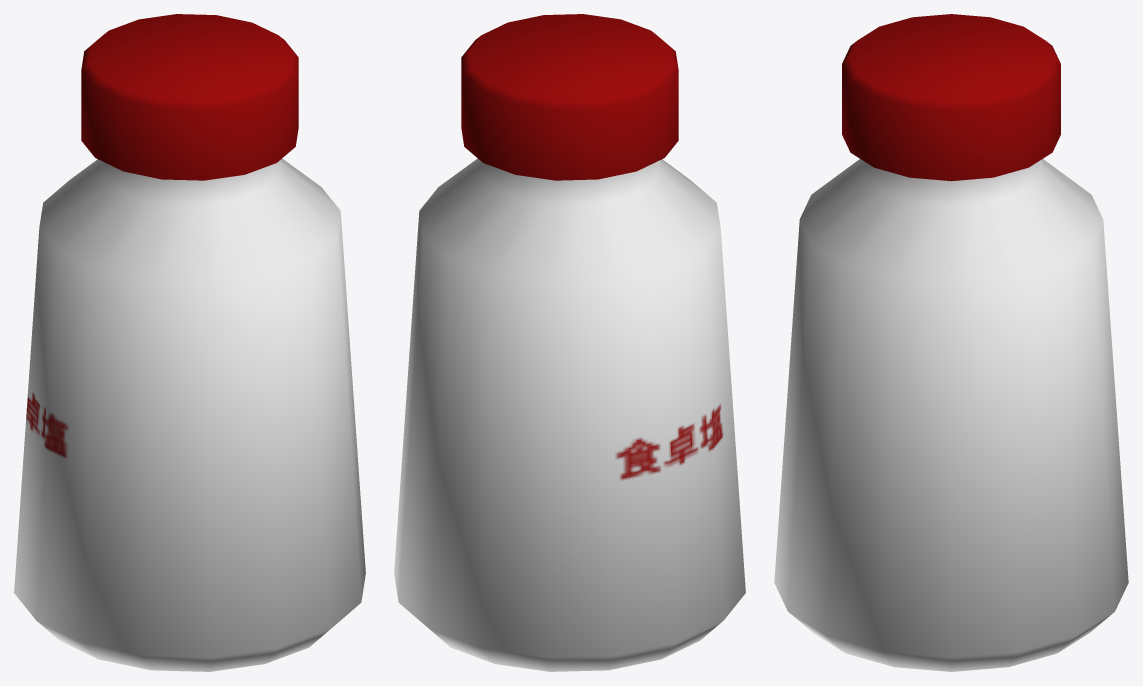
Rendered from table-salt.glb.
3 renders of one model, left to right at view 1: azimuth 30°, elevation 25°; view 2: azimuth 150°, elevation 25°; view 3: azimuth 270°, elevation 25°, orthographic.
Parts seen in each view (by area): view 1: hipoly; view 2: hipoly; view 3: hipoly.
Boxes of the visible parts, box(x1,y1,x2,y2) form: hipoly: box(14, 14, 365, 671); hipoly: box(394, 14, 745, 671); hipoly: box(774, 14, 1128, 671).
Bounding box in the file's own units: 0.0495 × 0.085 × 0.0495.
Materials: 3 (1 with a texture image).
